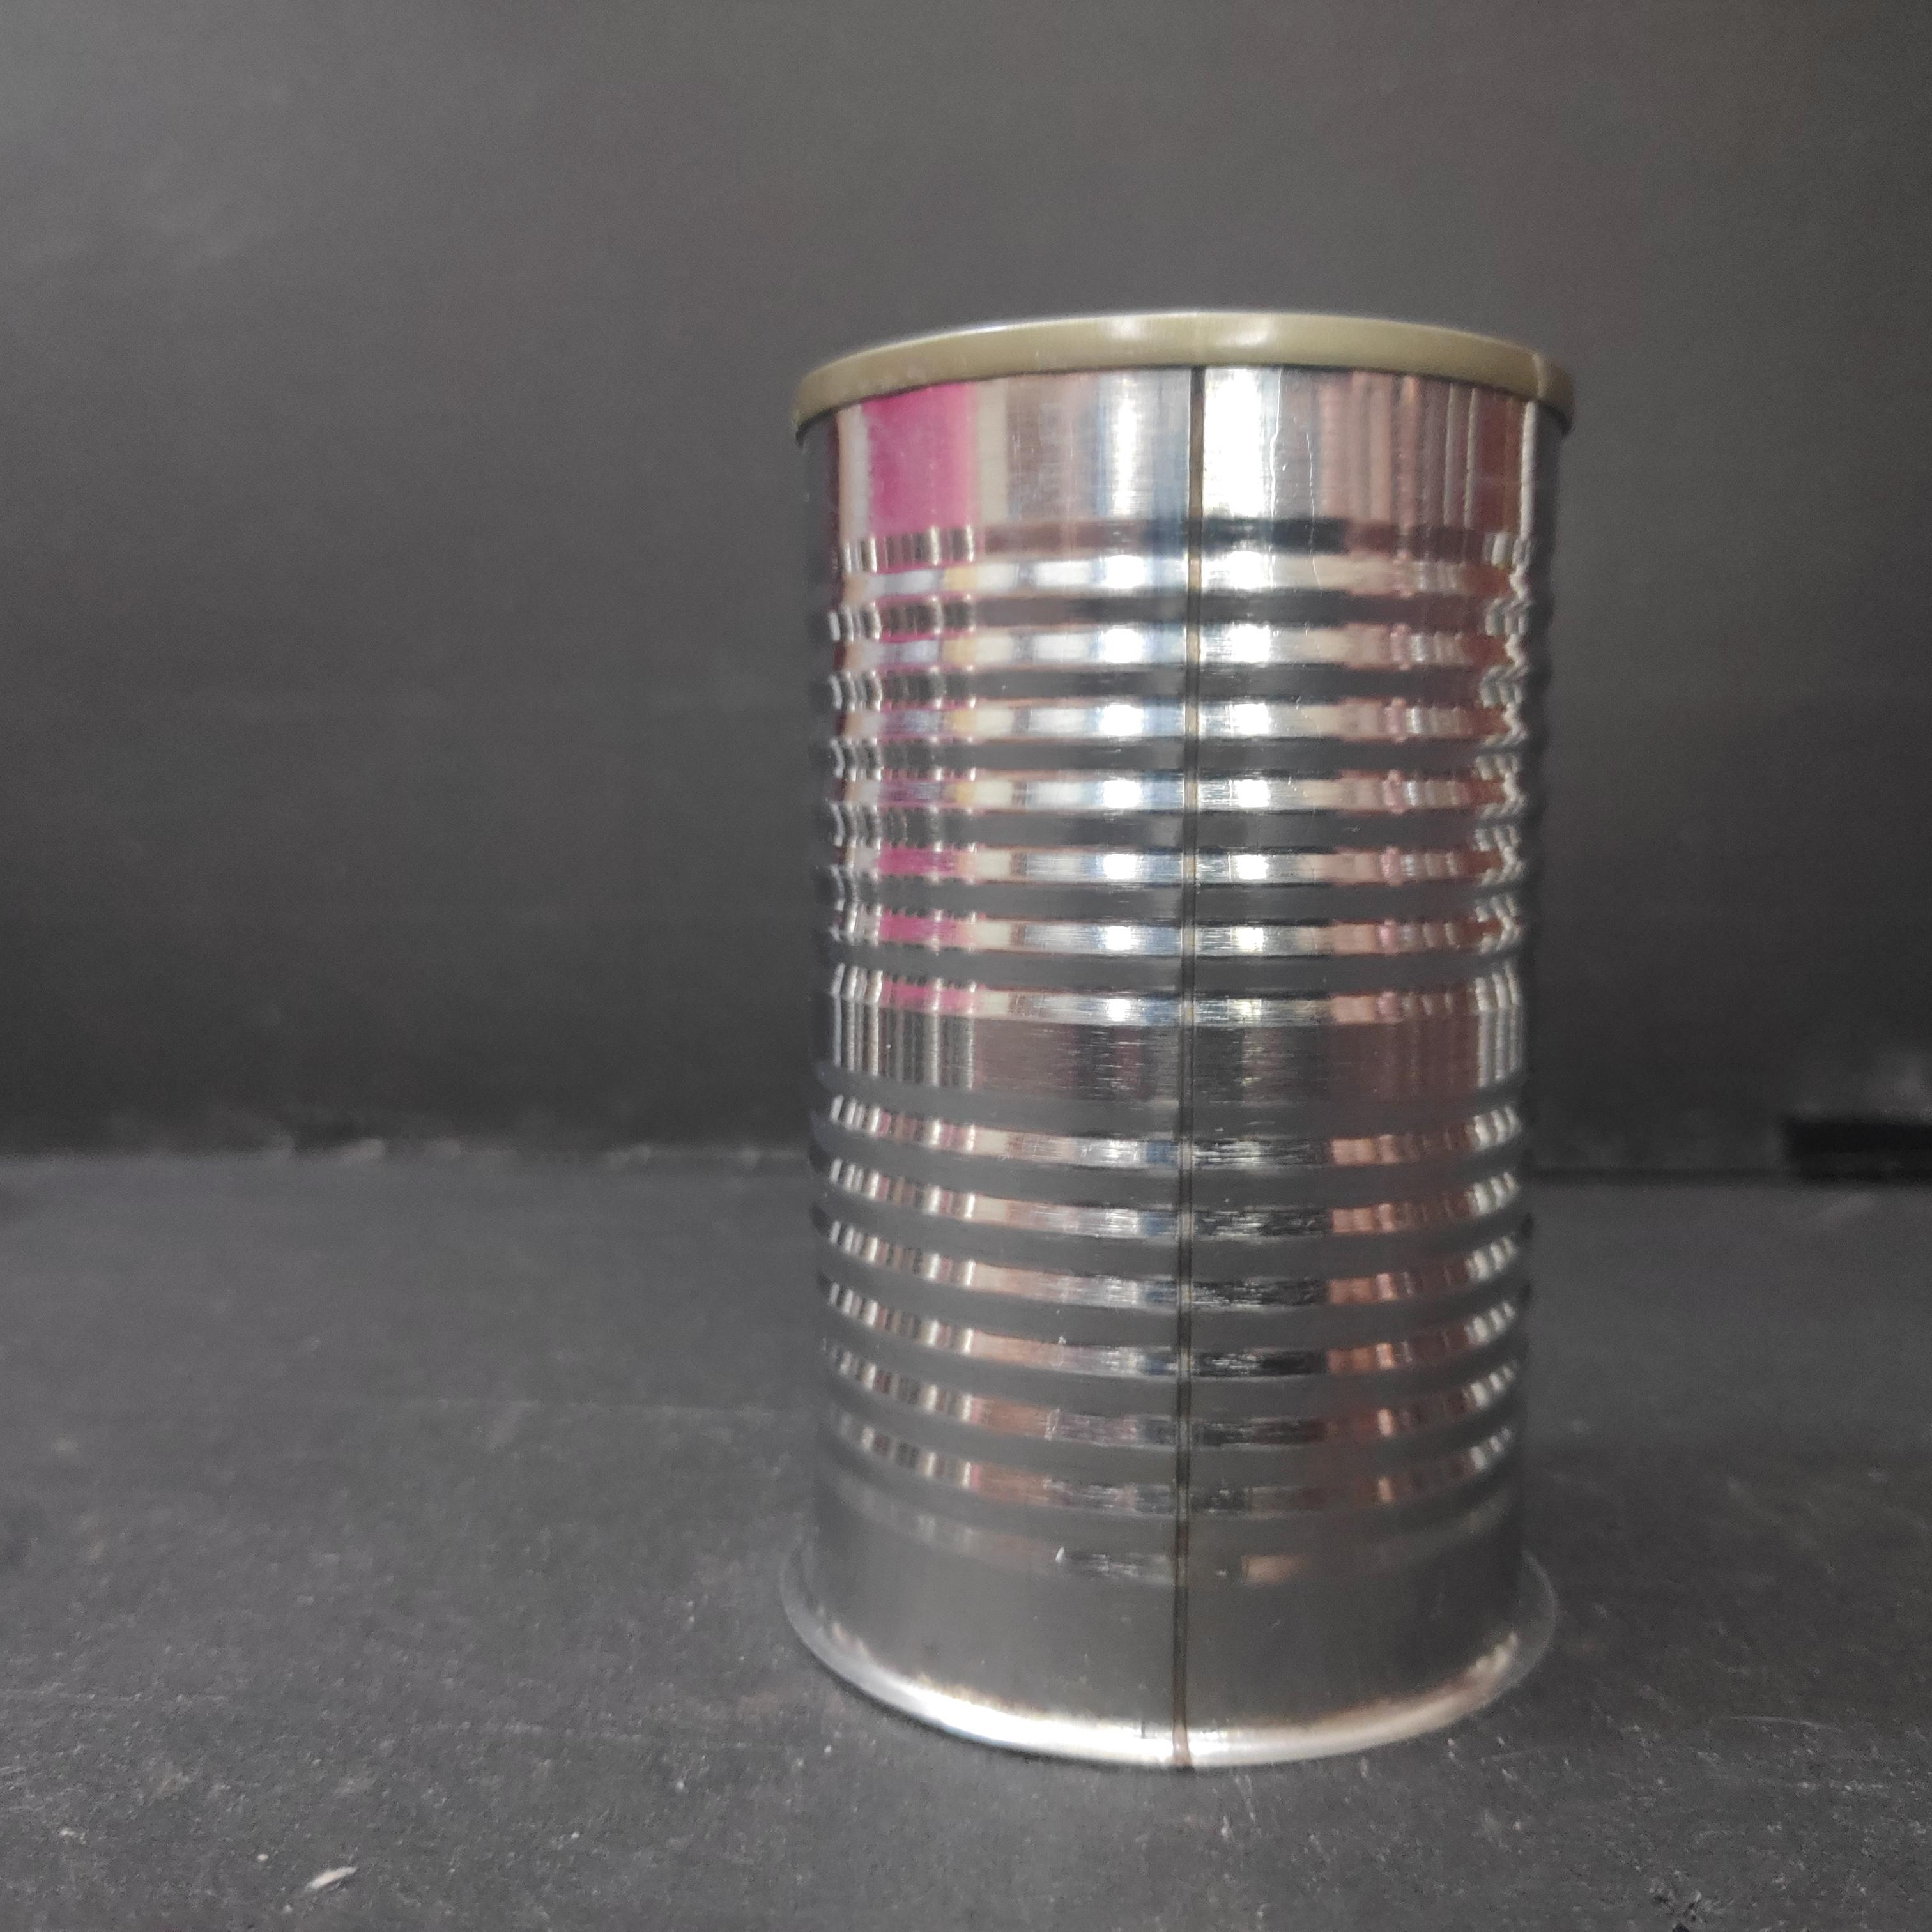No defect: (770, 309, 1584, 1770)
